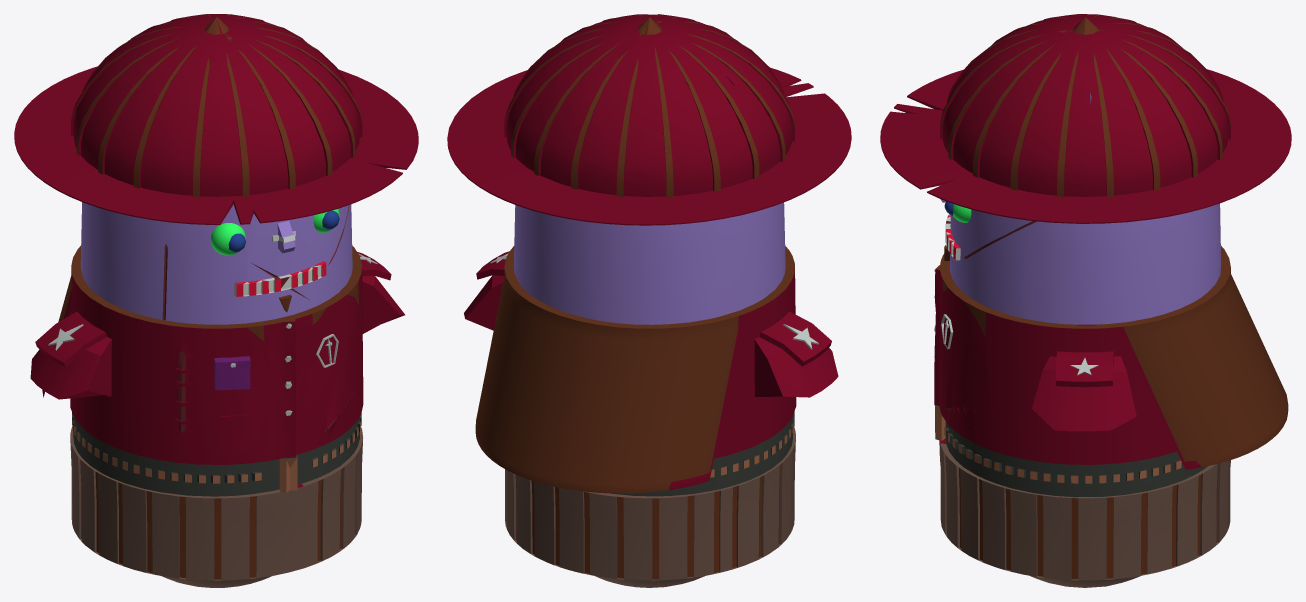
File: PiyerBrotherLowPoly.fbx
3 renders of one model, left to right at view 1: azimuth 30°, elevation 25°; view 2: azimuth 150°, elevation 25°; view 3: azimuth 270°, elevation 25°, orthographic.
Parts seen in each view (by area): view 1: Sphere, Sphere.001; view 2: Sphere; view 3: Sphere.
Part boxes in pixels (bbox=[...]): Sphere: bbox=[14, 14, 418, 587]; Sphere.001: bbox=[210, 223, 245, 255]; Sphere: bbox=[447, 14, 851, 587]; Sphere: bbox=[880, 14, 1291, 587].
Size of the model in its own units: 267 by 406 by 271.
